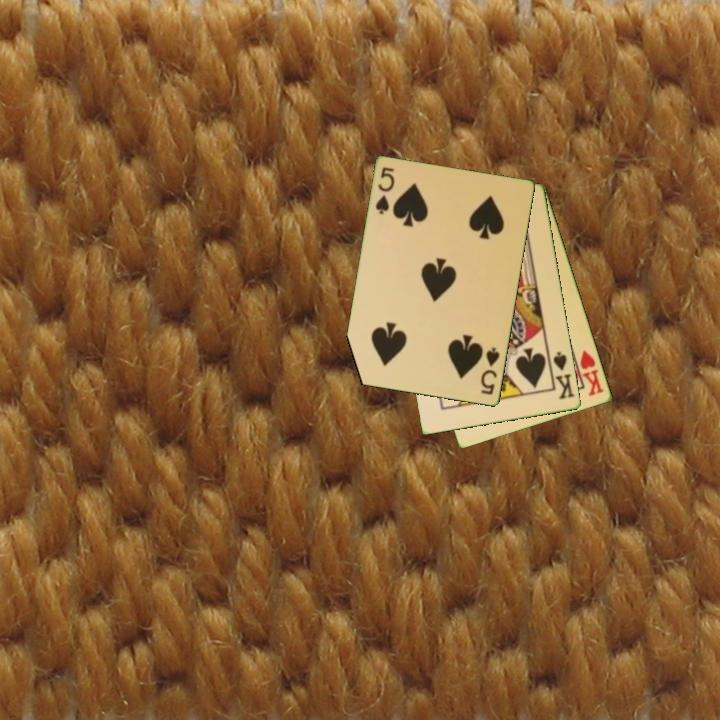5s: (477, 344, 503, 398), (372, 164, 398, 218)
Kh: (570, 347, 607, 399)
Ks: (546, 348, 578, 402)
